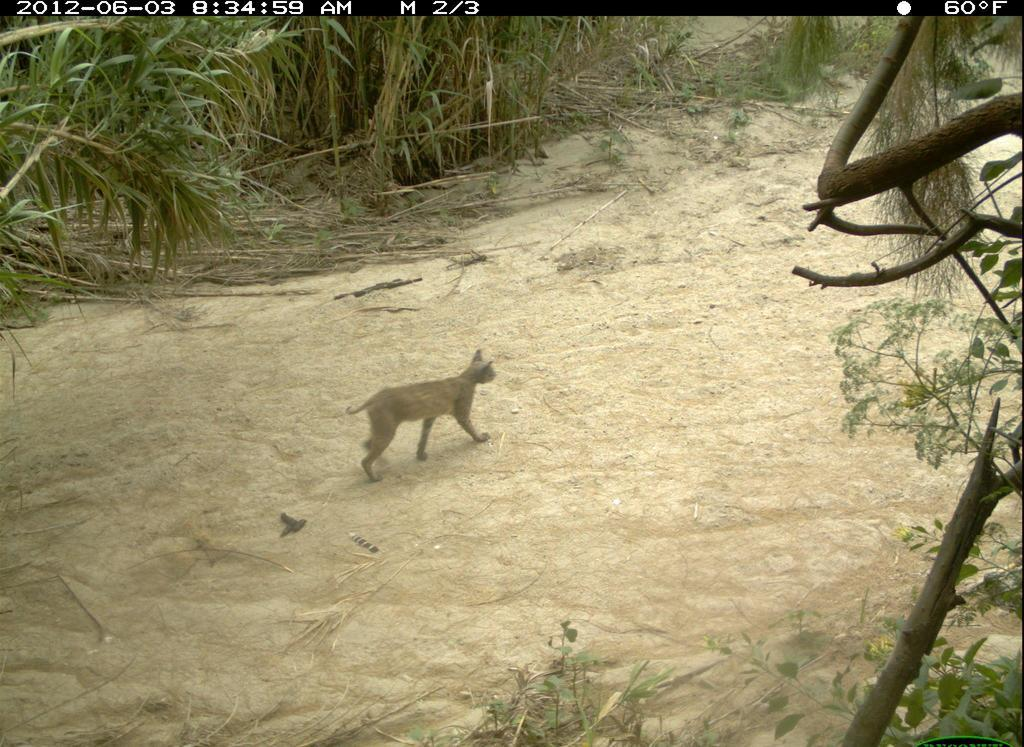bobcat: (301, 280, 584, 523)
